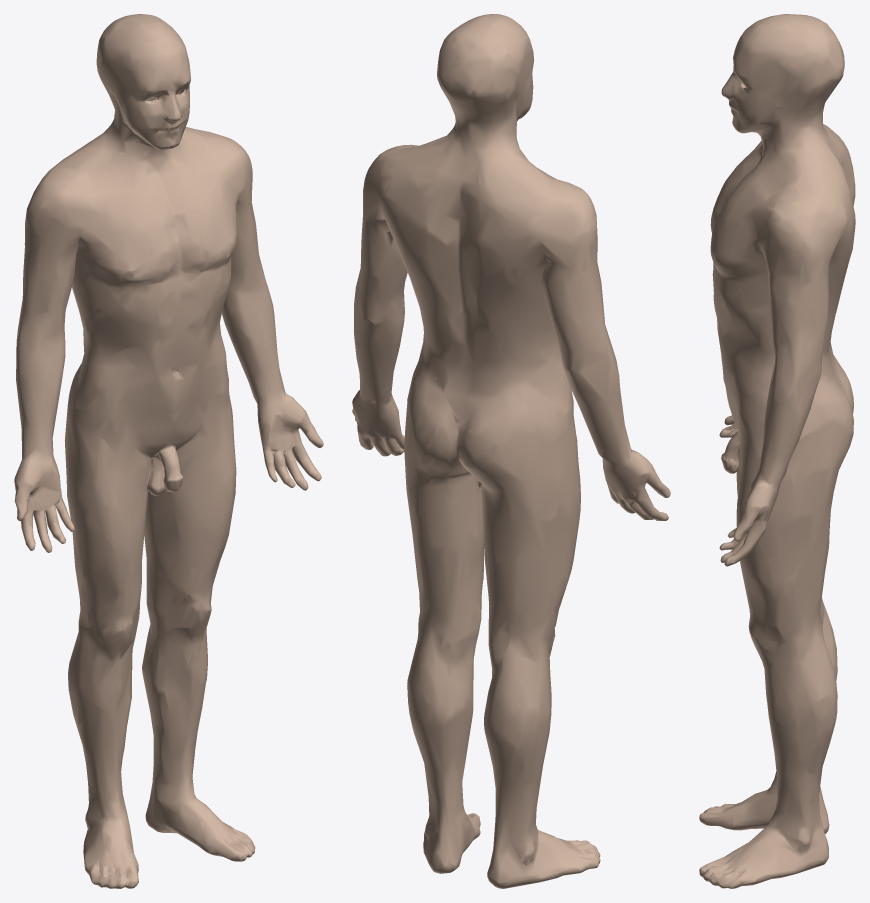
File: anatomy-skin.glb
3 renders of one model, left to right at view 1: azimuth 30°, elevation 25°; view 2: azimuth 150°, elevation 25°; view 3: azimuth 270°, elevation 25°, orthographic. The views are drawn at different scales.
Visible parts, largest first — view 1: skin; view 2: skin; view 3: skin.
Boxes of the visible parts, x1,y1,x2,y2 form: skin: [14, 14, 323, 888]; skin: [352, 14, 670, 888]; skin: [699, 14, 855, 888].
Size of the model in its own units: 3.34 by 8.6 by 1.46.
